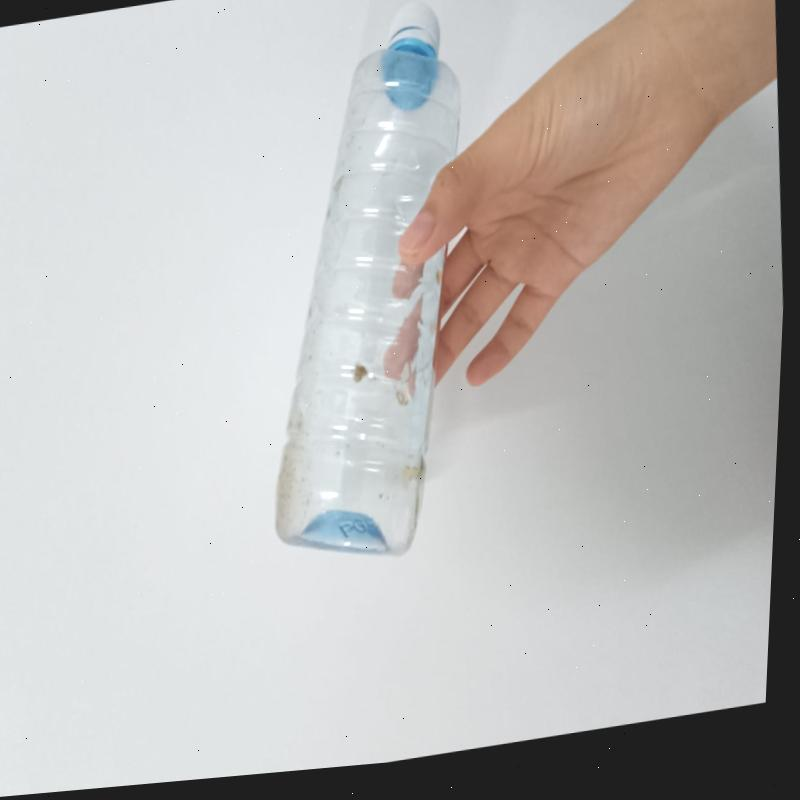botella: (244, 5, 498, 589)
